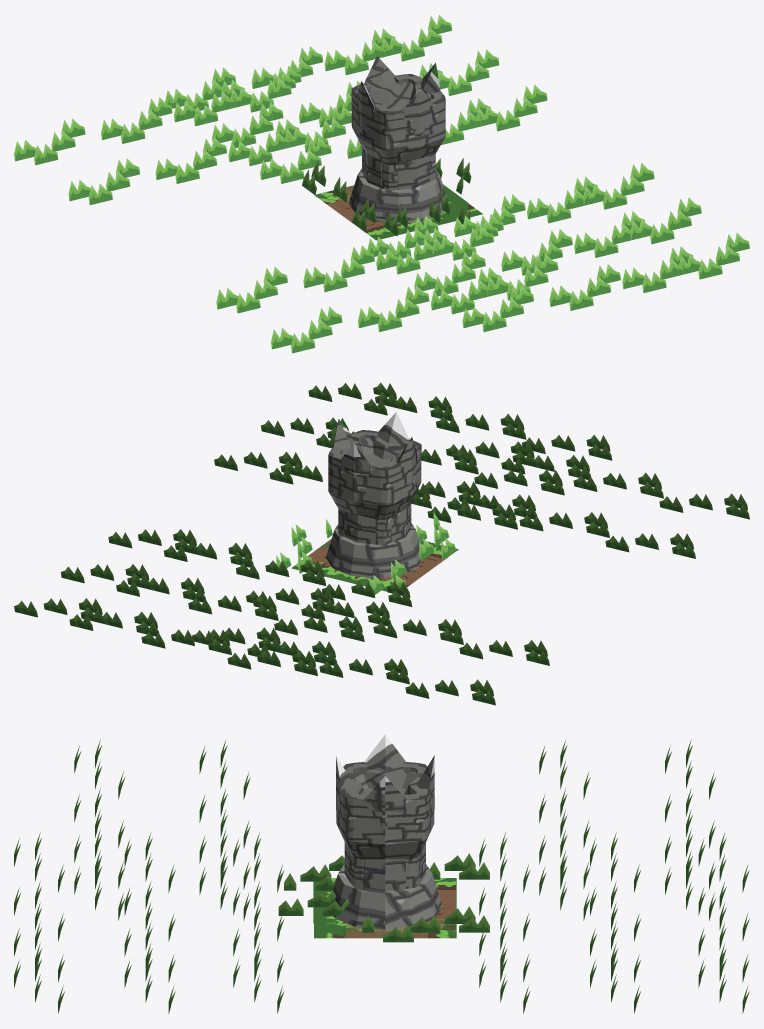
Rendered from aio.fbx.
3 views of the same model, one above another, from view 1: azimuth 30°, elevation 25°; view 2: azimuth 150°, elevation 25°; view 3: azimuth 270°, elevation 25° (orthographic). The views are drawn at different scales.
Parts seen in each view (by area): view 1: Grass.012, Tower2, Tower1, Grass.006, Plane.010; view 2: Grass.012, Tower2, Tower1, Grass.006, Plane.011; view 3: Grass.012, Tower2, Tower1, Grass.006, Plane.010, Plane.011.
Part boxes in pixels (x1,y1,x2,y2): Grass.012: [14, 15, 749, 353]; Tower2: [349, 56, 446, 224]; Tower1: [351, 74, 445, 190]; Grass.006: [302, 158, 471, 236]; Plane.010: [315, 184, 468, 240]; Grass.012: [14, 382, 749, 705]; Tower2: [326, 412, 422, 578]; Tower1: [328, 430, 421, 545]; Grass.006: [276, 512, 455, 597]; Plane.011: [292, 539, 458, 591]; Grass.012: [14, 739, 749, 1013]; Tower2: [333, 734, 442, 930]; Tower1: [336, 762, 434, 888]; Grass.006: [278, 853, 489, 942]; Plane.010: [313, 878, 455, 937]; Plane.011: [314, 878, 456, 938].
Size of what is drawn, in the model's own units: 4.3 by 1.19 by 5.16.
Materials: 4 (4 with a texture image).
